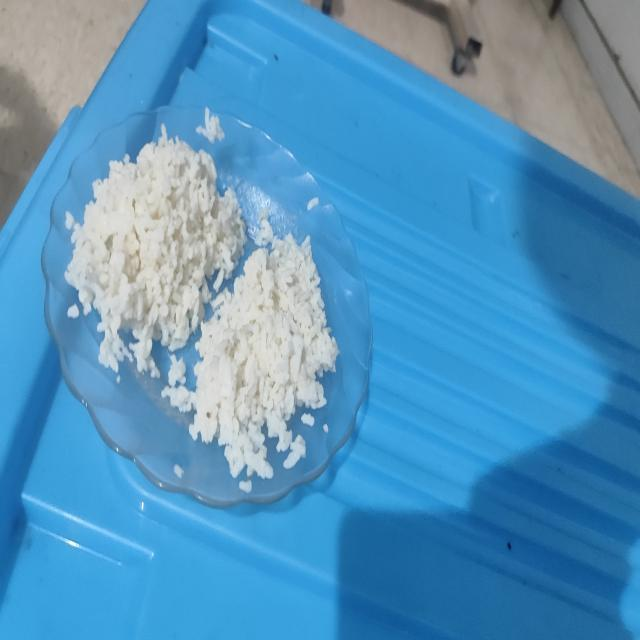nasi_putih: (65, 124, 246, 370), (189, 234, 339, 479)
